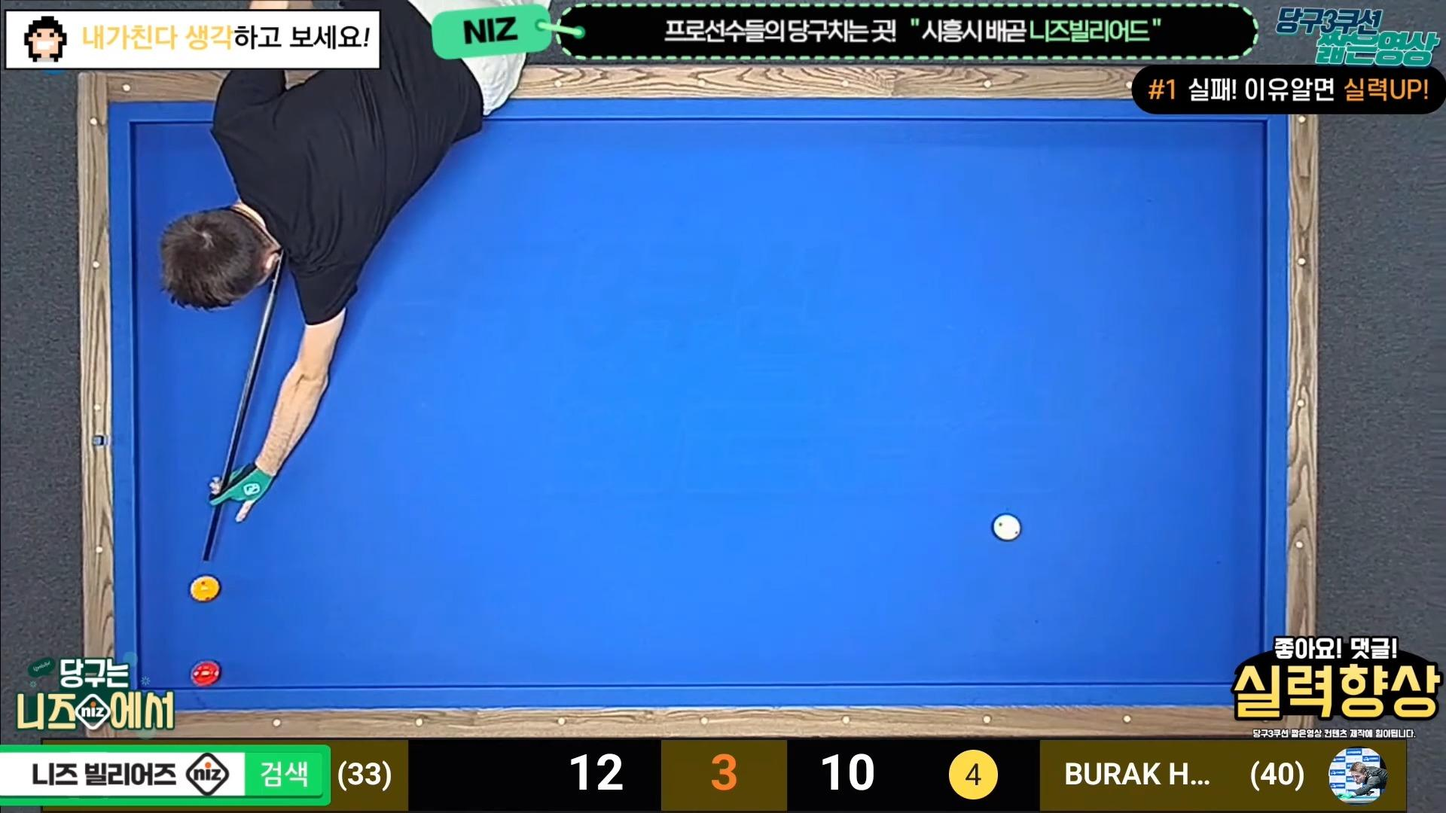-billiard-ball: (991, 513, 1021, 542)
Red: (193, 661, 227, 687)
White: (992, 515, 1027, 543)
Yellow: (192, 576, 226, 603)
